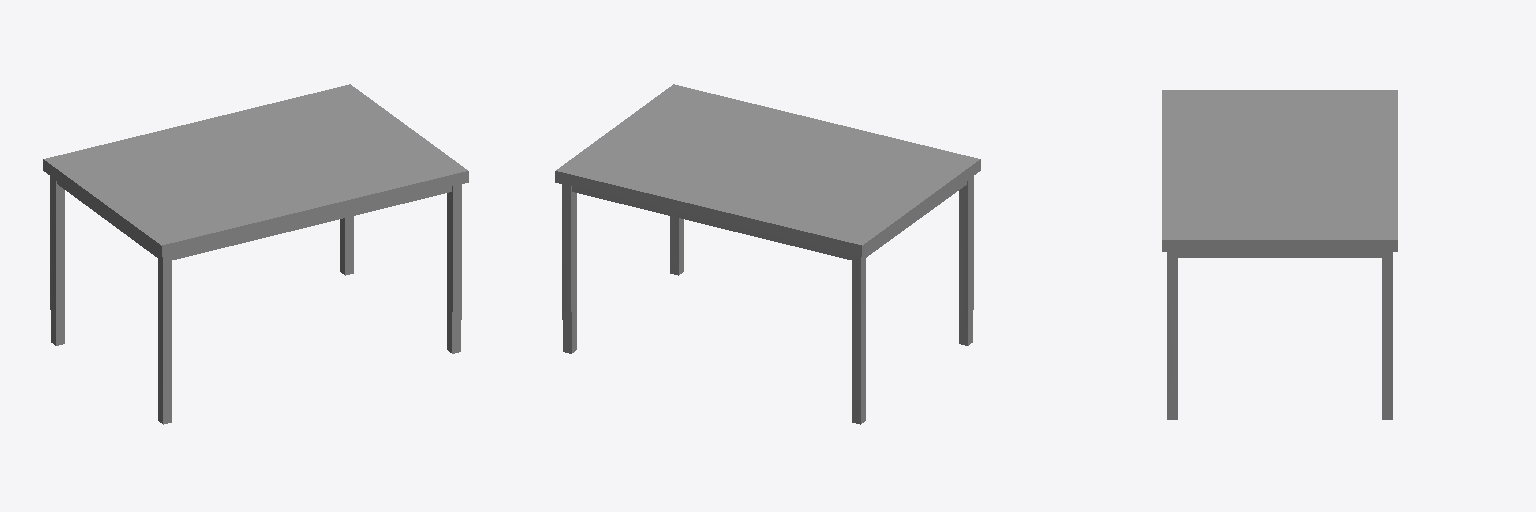
The model's file is table.obj.
The picture shows the model from 3 angles: view 1: azimuth 30°, elevation 25°; view 2: azimuth 150°, elevation 25°; view 3: azimuth 270°, elevation 25°; orthographic projection.
Bounding box in the file's own units: 3 × 1.7 × 2.